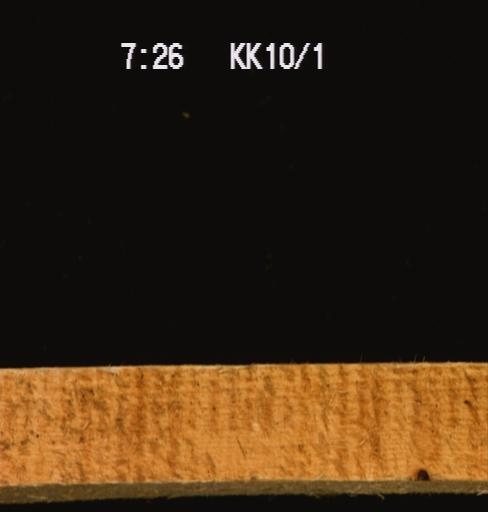edge_knot: (409, 465, 431, 482)
